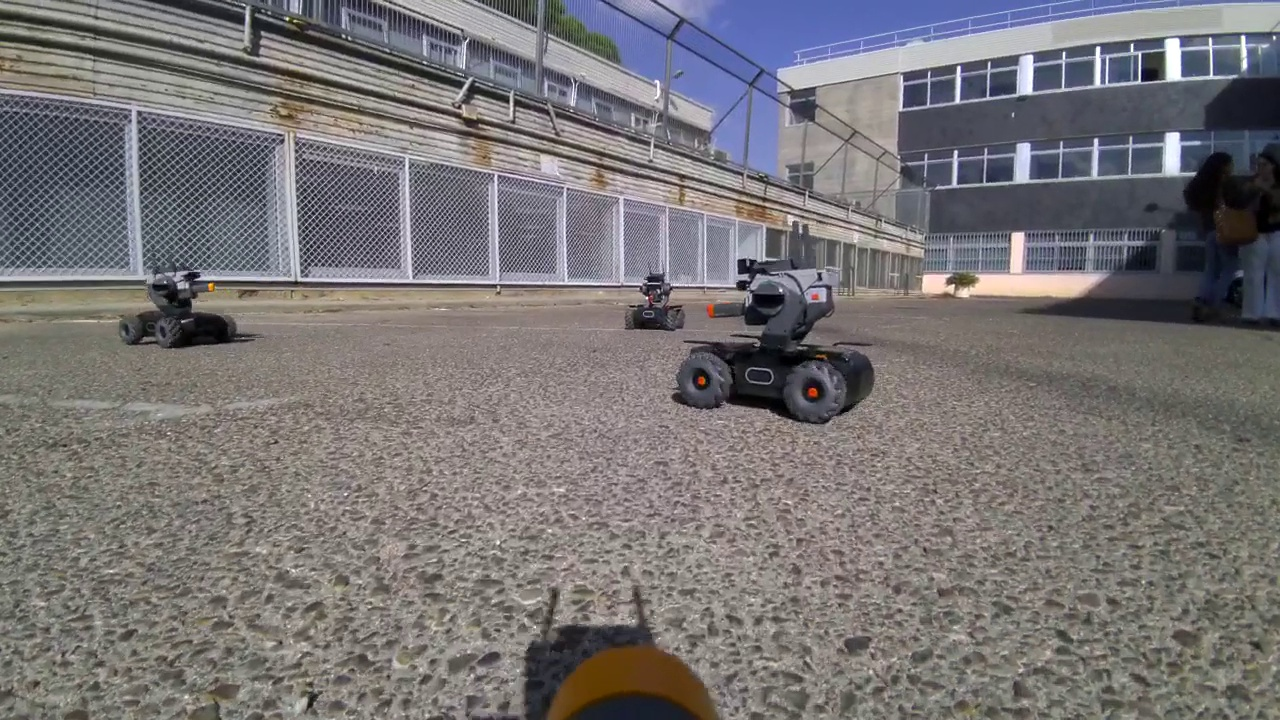robot: (665, 240, 884, 430), (106, 247, 253, 350), (620, 265, 689, 337)
